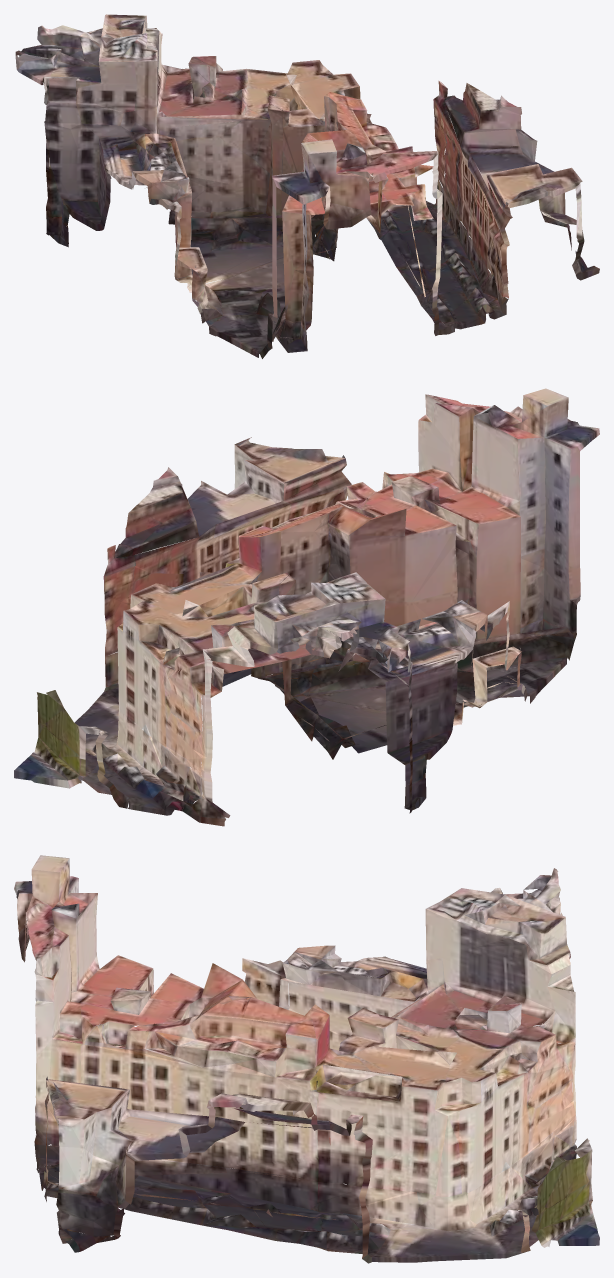
The picture shows the model from 3 angles, top to bottom: view 1: azimuth 30°, elevation 25°; view 2: azimuth 150°, elevation 25°; view 3: azimuth 270°, elevation 25°; orthographic projection. The views are drawn at different scales.
Visible parts, largest first — view 1: Mesh_0; view 2: Mesh_0; view 3: Mesh_0.
Boxes of the visible parts, <box> form: Mesh_0: <box>15,14,599,358</box>; Mesh_0: <box>14,388,599,826</box>; Mesh_0: <box>14,855,599,1263</box>.
Bounding box in the file's own units: 66.87 × 40.94 × 82.56.
Materials: 1 (1 with a texture image).
